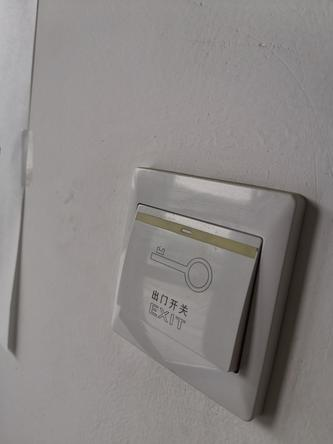switch: (107, 190, 270, 377)
